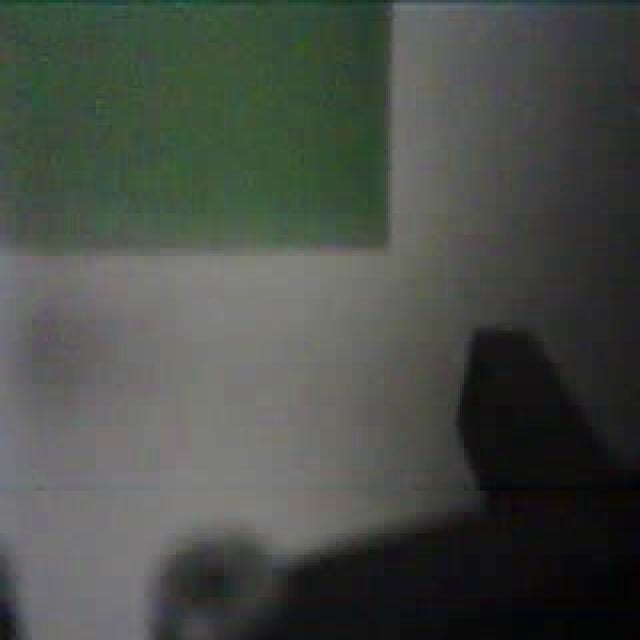green_box: (0, 0, 394, 256)
